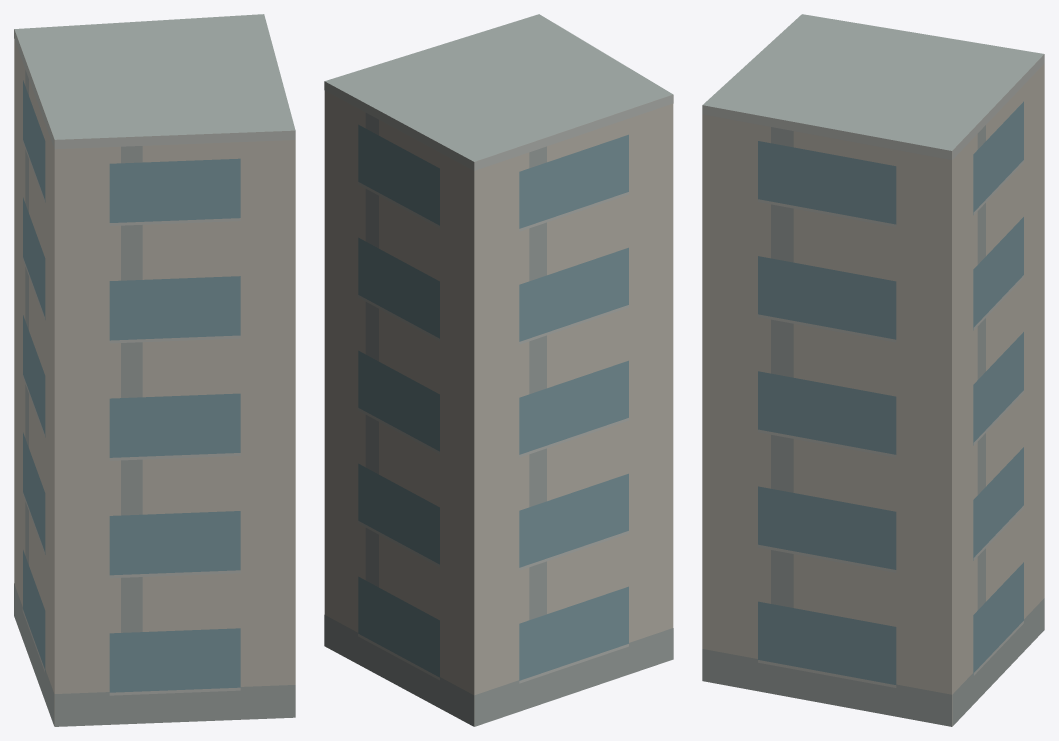
File: survey-upis-32725306.glb
3 views of the same model, side by side, from view 1: azimuth 30°, elevation 25°; view 2: azimuth 150°, elevation 25°; view 3: azimuth 270°, elevation 25° (orthographic). The views are drawn at different scales.
Visible parts, largest first — view 1: survey-upis-32725306.tmp; view 2: survey-upis-32725306.tmp; view 3: survey-upis-32725306.tmp.
Part boxes in pixels (left/top/right/bottom): survey-upis-32725306.tmp: left=14, top=14, right=295, bottom=726; survey-upis-32725306.tmp: left=324, top=14, right=673, bottom=726; survey-upis-32725306.tmp: left=702, top=14, right=1044, bottom=726.
Bounding box in the file's own units: 7.79 × 15.25 × 8.22.
